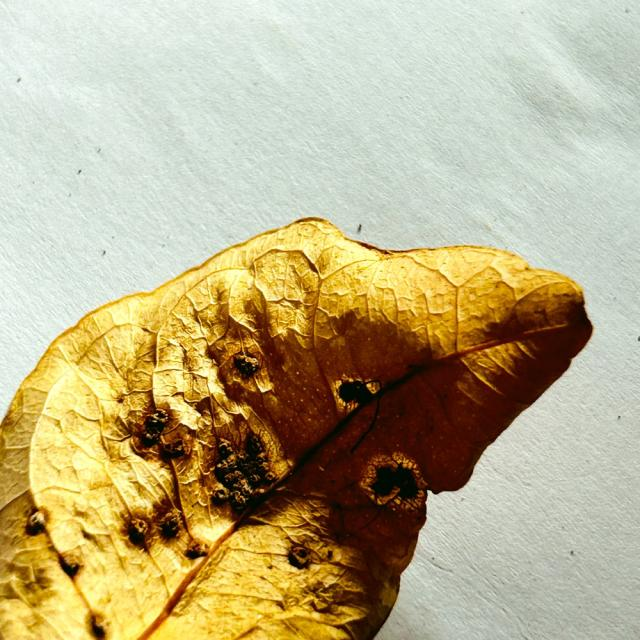DryLeaf_Lemon: (0, 218, 592, 639)
